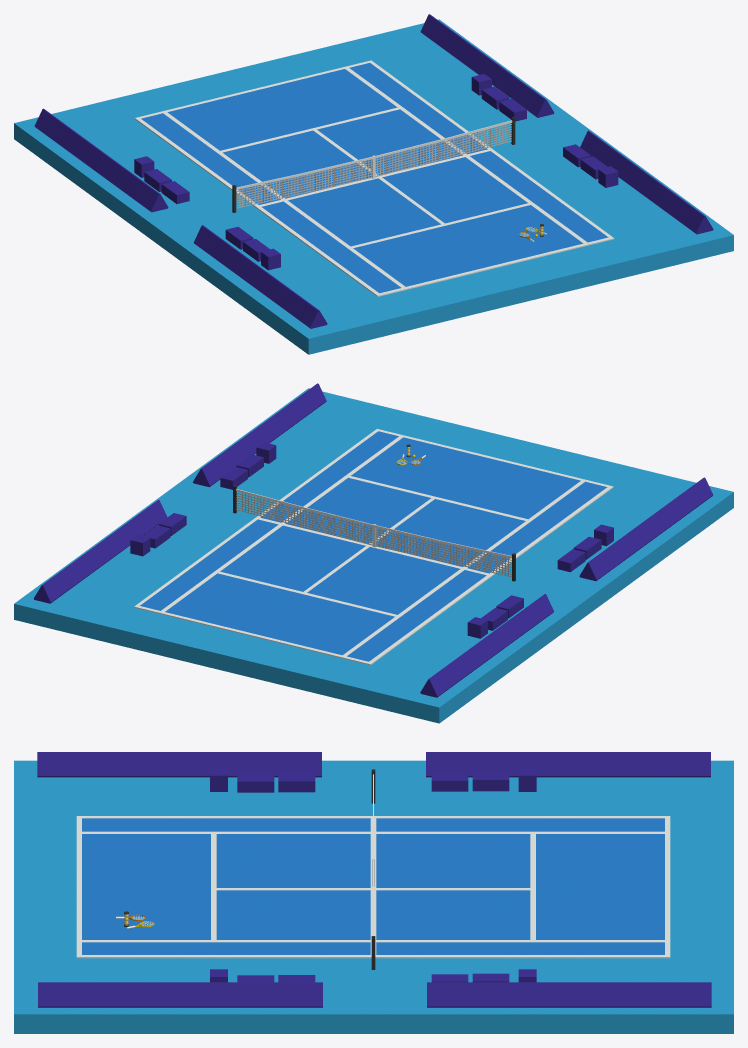
The model's file is tennis-court.glb.
3 views of the same model, one above another, from view 1: azimuth 30°, elevation 25°; view 2: azimuth 150°, elevation 25°; view 3: azimuth 270°, elevation 25° (orthographic). The views are drawn at different scales.
Visible parts, largest first — view 1: Box127_black_0, Box173_purple2_0; view 2: Box127_black_0, Box173_purple2_0; view 3: Box127_black_0, Box173_purple2_0.
Boxes of the visible parts, x1=… form: Box127_black_0: x1=14, y1=19, x2=733, y2=354; Box173_purple2_0: x1=34, y1=14, x2=713, y2=328; Box127_black_0: x1=14, y1=388, x2=733, y2=723; Box173_purple2_0: x1=33, y1=383, x2=712, y2=697; Box127_black_0: x1=14, y1=760, x2=733, y2=1033; Box173_purple2_0: x1=37, y1=752, x2=711, y2=1007.
Bounding box in the file's own units: 20.01 × 1.97 × 24.
Materials: 4 (4 with a texture image).
